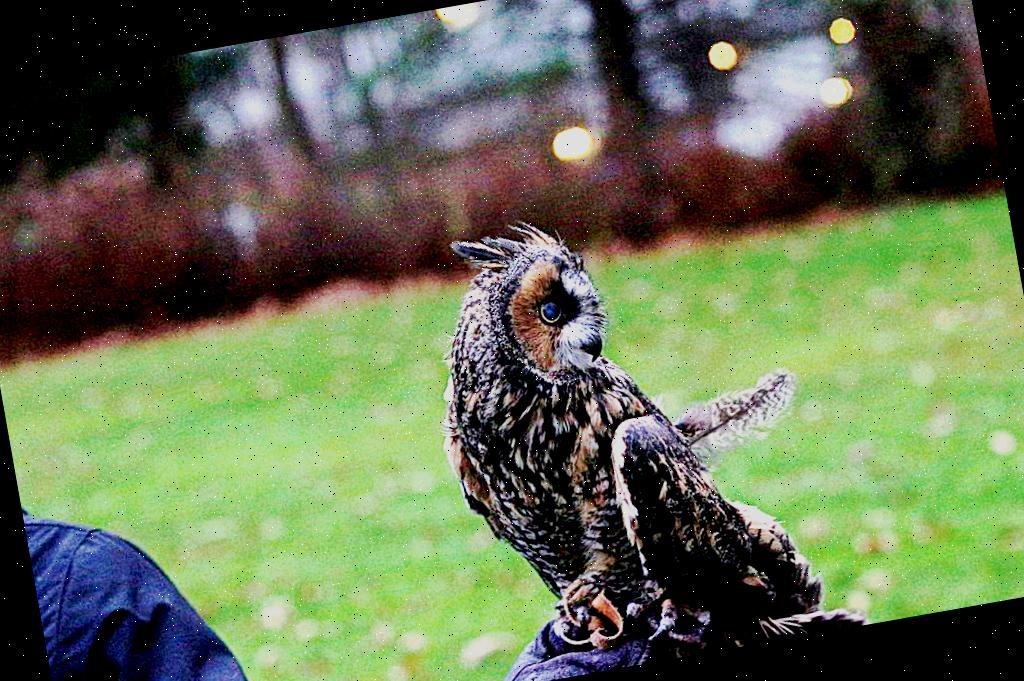Owl: (410, 184, 808, 638)
